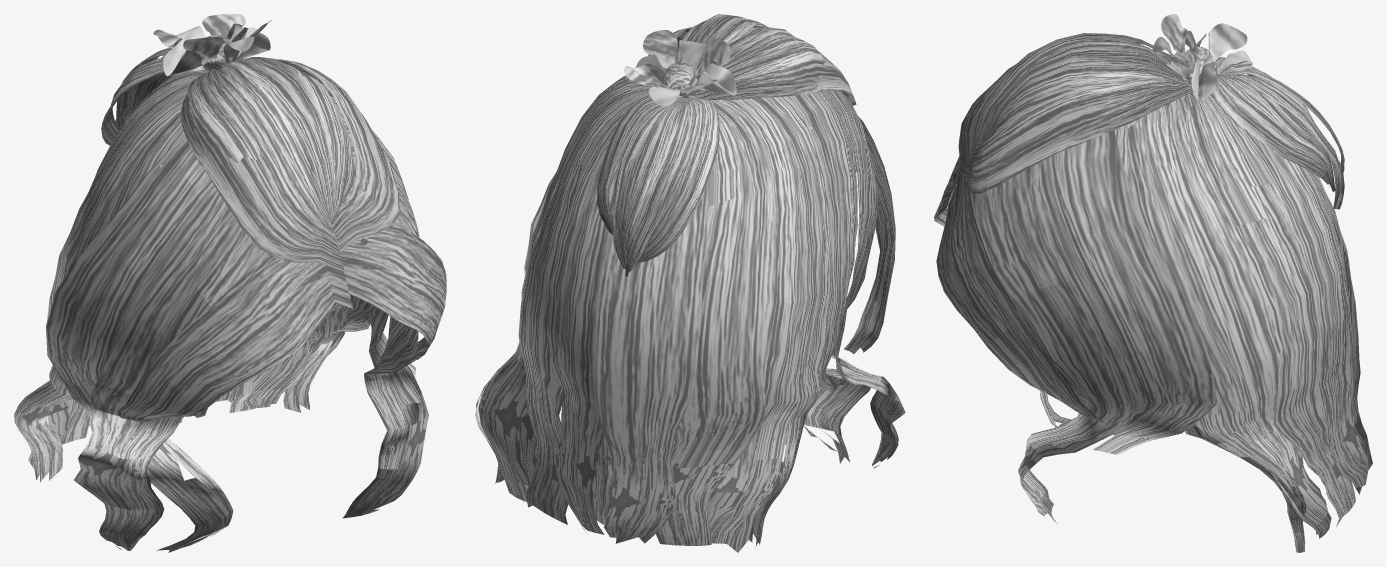
Rendered from daz_hair_twin_braids.glb.
3 views of the same model, side by side, from view 1: azimuth 30°, elevation 25°; view 2: azimuth 150°, elevation 25°; view 3: azimuth 270°, elevation 25° (orthographic). The views are drawn at different scales.
Visible parts, largest first — view 1: daz_hair_twin_braids; view 2: daz_hair_twin_braids; view 3: daz_hair_twin_braids.
Boxes of the visible parts, x1=… form: daz_hair_twin_braids: x1=14, y1=14, x2=446, y2=552; daz_hair_twin_braids: x1=475, y1=14, x2=905, y2=552; daz_hair_twin_braids: x1=934, y1=14, x2=1372, y2=552.
Size of the model in its own units: 0.2191 by 0.2681 by 0.2336.
Materials: 1 (1 with a texture image).
